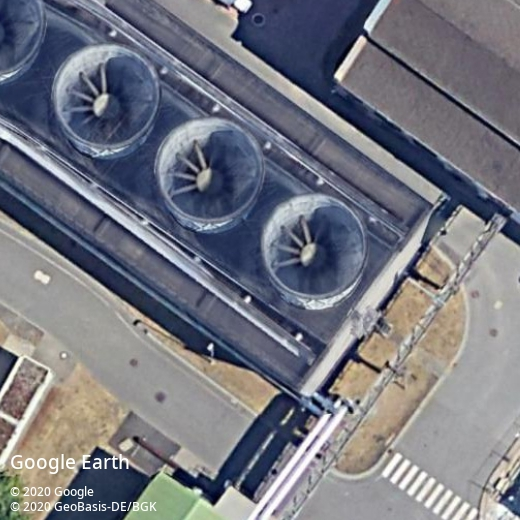Vent: (155, 117, 265, 223), (260, 194, 368, 300), (53, 45, 159, 150)
